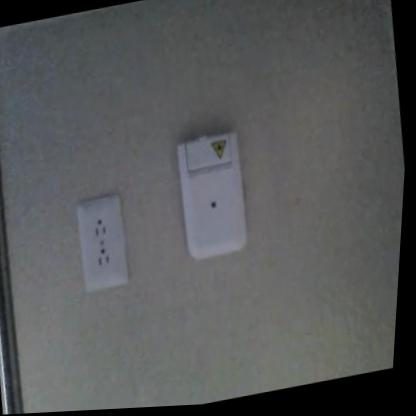OUTLET: (70, 192, 134, 294)
